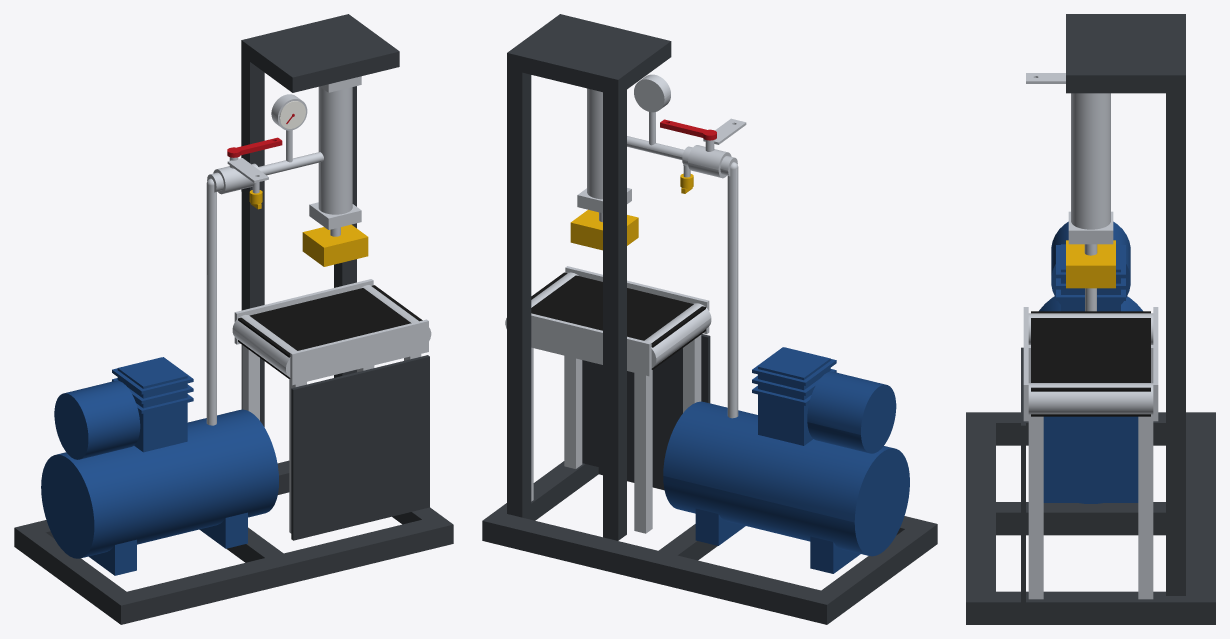
The model's file is Neumatica.fbx.
The picture shows the model from 3 angles, left to right: view 1: azimuth 30°, elevation 25°; view 2: azimuth 150°, elevation 25°; view 3: azimuth 270°, elevation 25°; orthographic projection. The views are drawn at different scales.
Visible parts, largest first — view 1: Base, Compressor, Conveyor, CylinderBody, AirLine, Rod, ValveBody, GaugeBody; view 2: Base, Compressor, Conveyor, AirLine, CylinderBody, ValveBody, Rod, GaugeBody; view 3: Base, Conveyor, Compressor, CylinderBody, Rod, ValveBody.
Boxes of the visible parts, x1,y1,x2,y2 form: Base: (14,14,453,624); Compressor: (41,357,278,575); Conveyor: (232,279,431,533); CylinderBody: (309,76,361,229); AirLine: (206,130,323,425); Rod: (302,224,368,266); ValveBody: (207,157,268,194); GaugeBody: (271,94,307,130); Base: (482,14,937,624); Compressor: (663,347,909,573); Conveyor: (505,266,711,533); AirLine: (627,112,738,418); CylinderBody: (577,88,631,213); ValveBody: (682,118,746,178); Rod: (570,209,638,250); GaugeBody: (634,74,670,112); Base: (966,14,1215,624); Conveyor: (1023,307,1158,599); Compressor: (1039,221,1142,503); CylinderBody: (1068,93,1113,244); Rod: (1066,240,1115,288); ValveBody: (1026,73,1065,83).
Bounding box in the file's own units: 0.9117 × 1.2 × 0.5.
